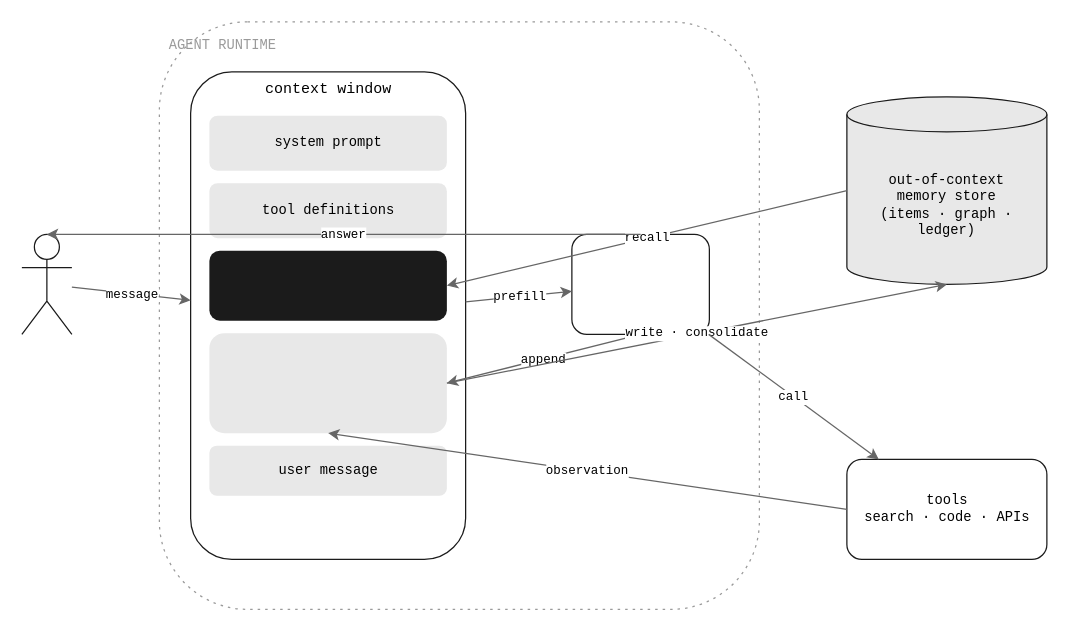
This 1069x631 diagram has some shape labels left out. Here are the shapes that lost their labels. From the top down, the centre of each, then its label:
At (46,283): "user".
At (327,285): "retrieved memories".
At (640,283): "LLM".
At (327,382): "message history (grows every turn)".
